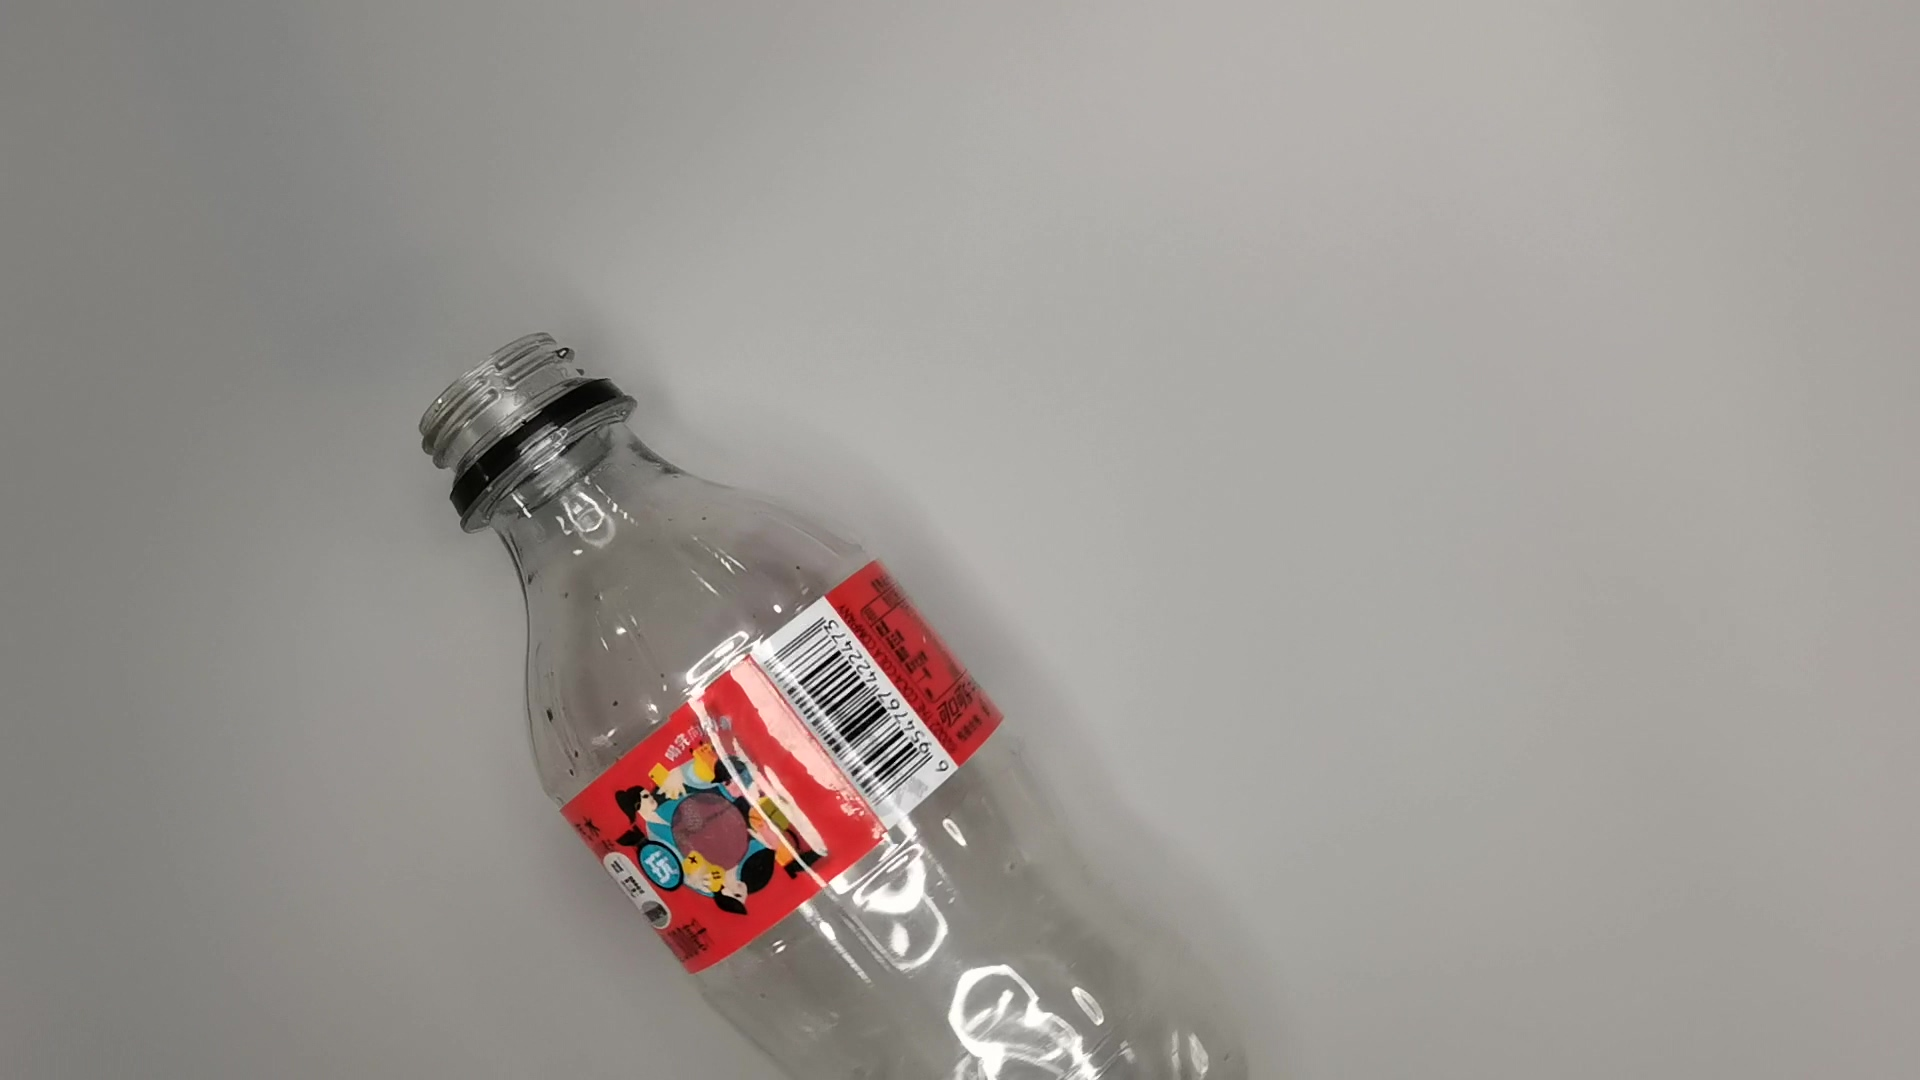bottle: (414, 326, 1265, 1080)
